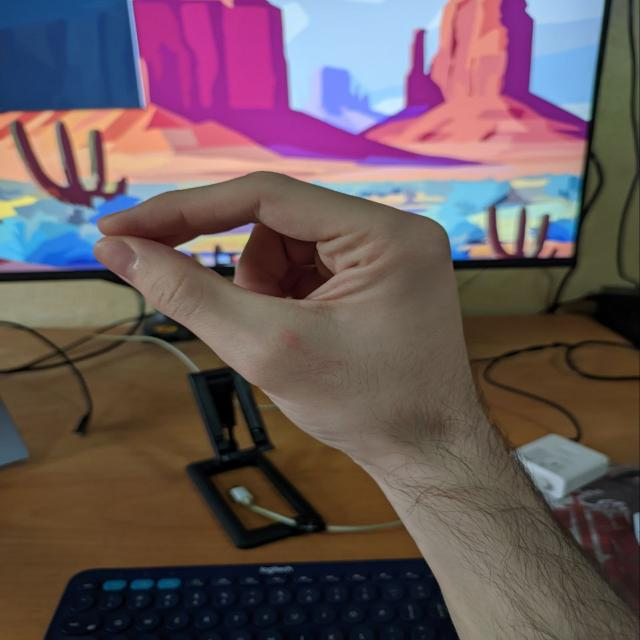ch: (73, 160, 457, 433)
